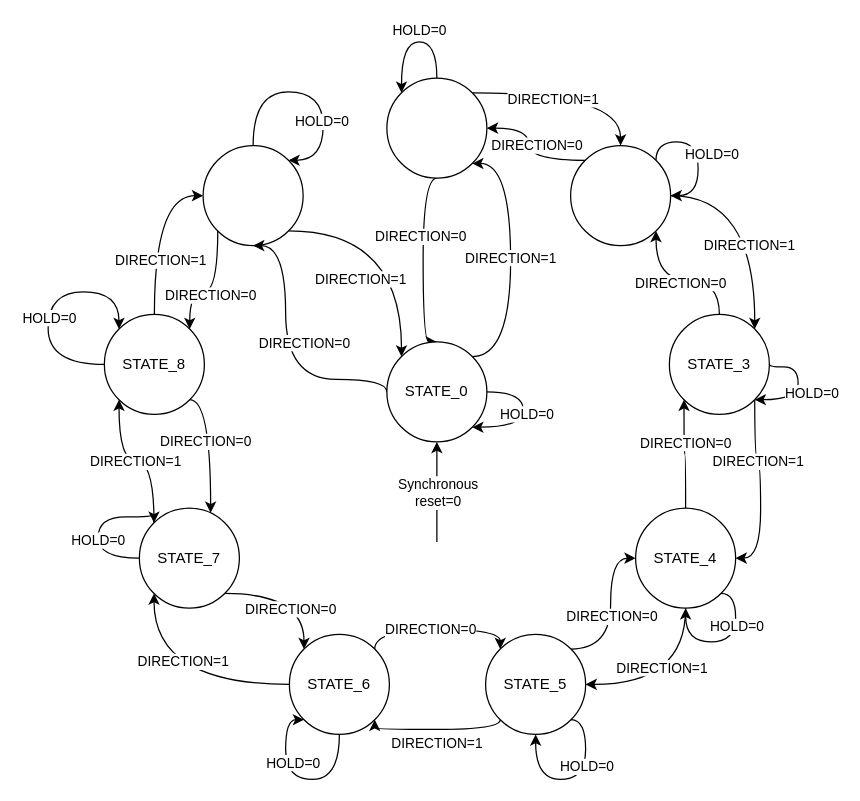
This 860x801 diagram has some shape labels left out. The shapes that lost their labels are listed below. From the top down, each one's centre as x and y in pixels, then its label:
At pixel 436 127: "STATE_1".
At pixel 252 195: "STATE_9".
At pixel 620 195: "STATE_2".
